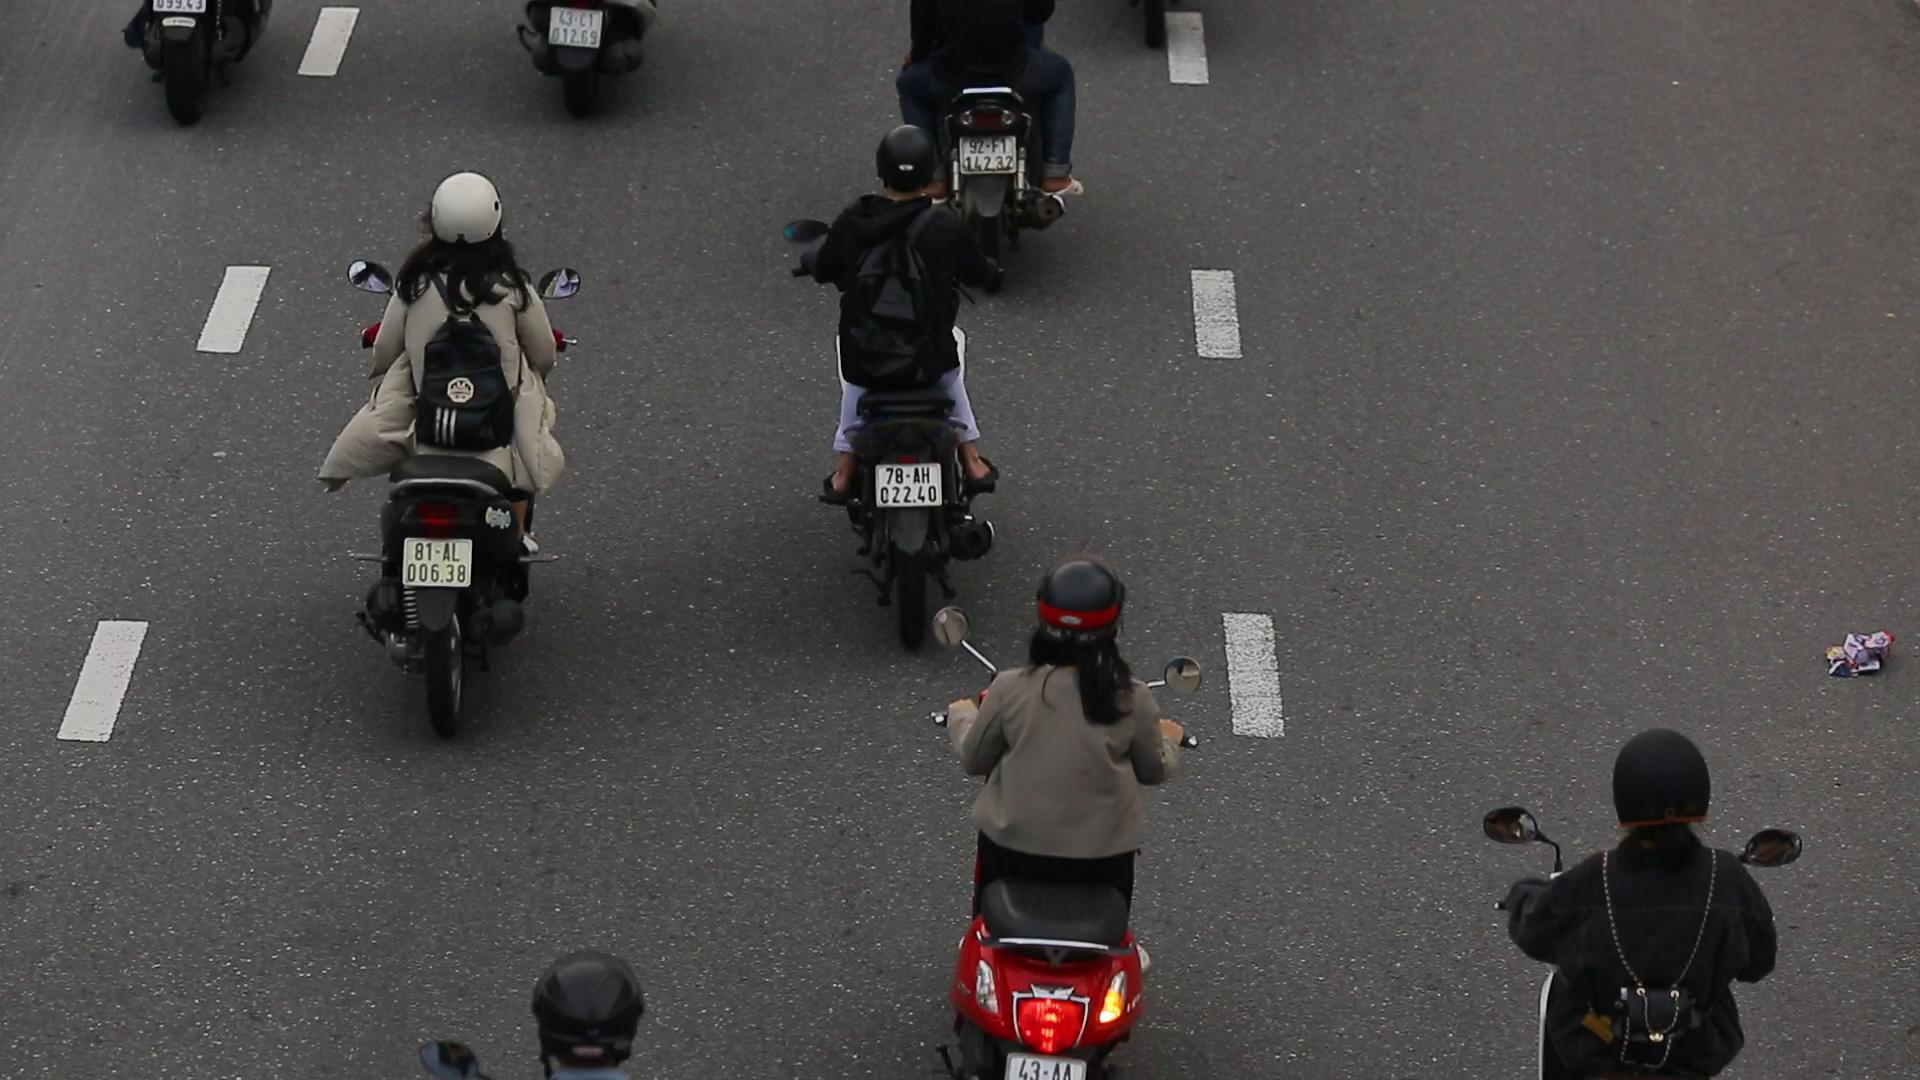motobike: (345, 169, 585, 729), (789, 125, 1014, 650)
